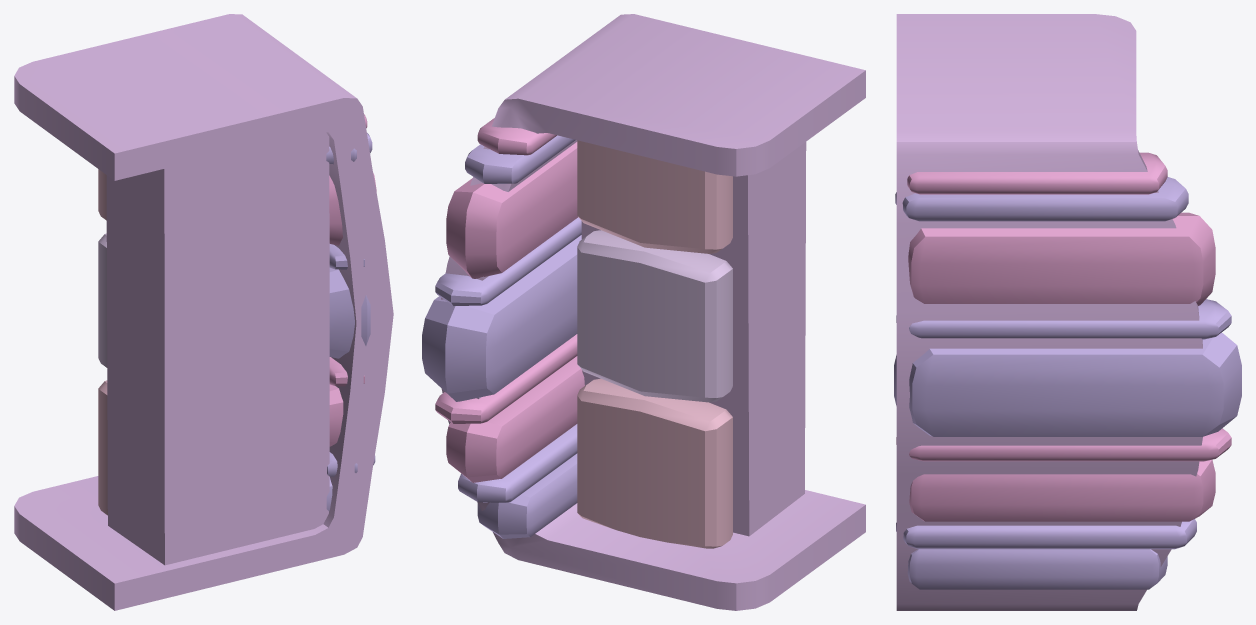
The model's file is couchmini.fbx.
3 views of the same model, side by side, from view 1: azimuth 30°, elevation 25°; view 2: azimuth 150°, elevation 25°; view 3: azimuth 270°, elevation 25° (orthographic). The views are drawn at different scales.
Parts seen in each view (by area): view 1: mueble_mini.001; view 2: mueble_mini.001; view 3: mueble_mini.001.
Boxes of the visible parts, x1=… form: mueble_mini.001: x1=14, y1=14, x2=393, y2=610; mueble_mini.001: x1=422, y1=14, x2=865, y2=610; mueble_mini.001: x1=894, y1=14, x2=1241, y2=610.
Bounding box in the file's own units: 0.7686 × 1.17 × 0.775.
